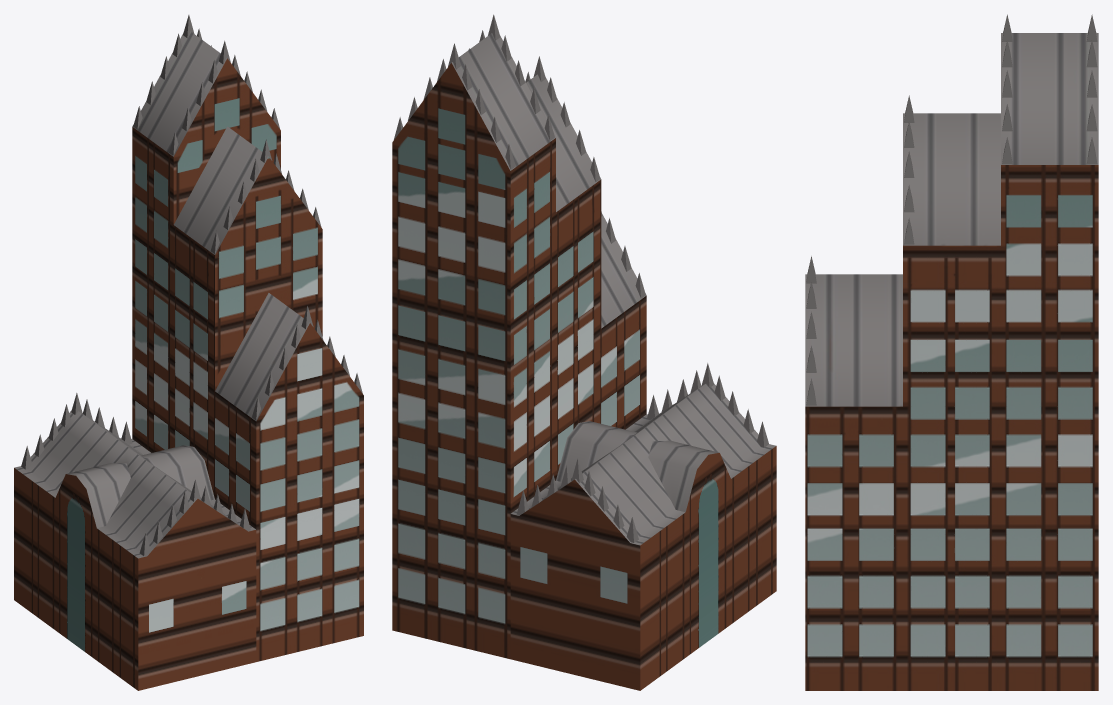
File: Revised Building 3.FBX
3 views of the same model, side by side, from view 1: azimuth 30°, elevation 25°; view 2: azimuth 150°, elevation 25°; view 3: azimuth 270°, elevation 25° (orthographic). The views are drawn at different scales.
Parts seen in each view (by area): view 1: Building 3; view 2: Building 3; view 3: Building 3.
Part boxes in pixels (x1,y1,x2,y2): Building 3: [14, 15, 363, 690]; Building 3: [392, 14, 776, 690]; Building 3: [805, 14, 1098, 690].
Bounding box in the file's own units: 220 × 510 × 210.
Materials: 1 (1 with a texture image).
